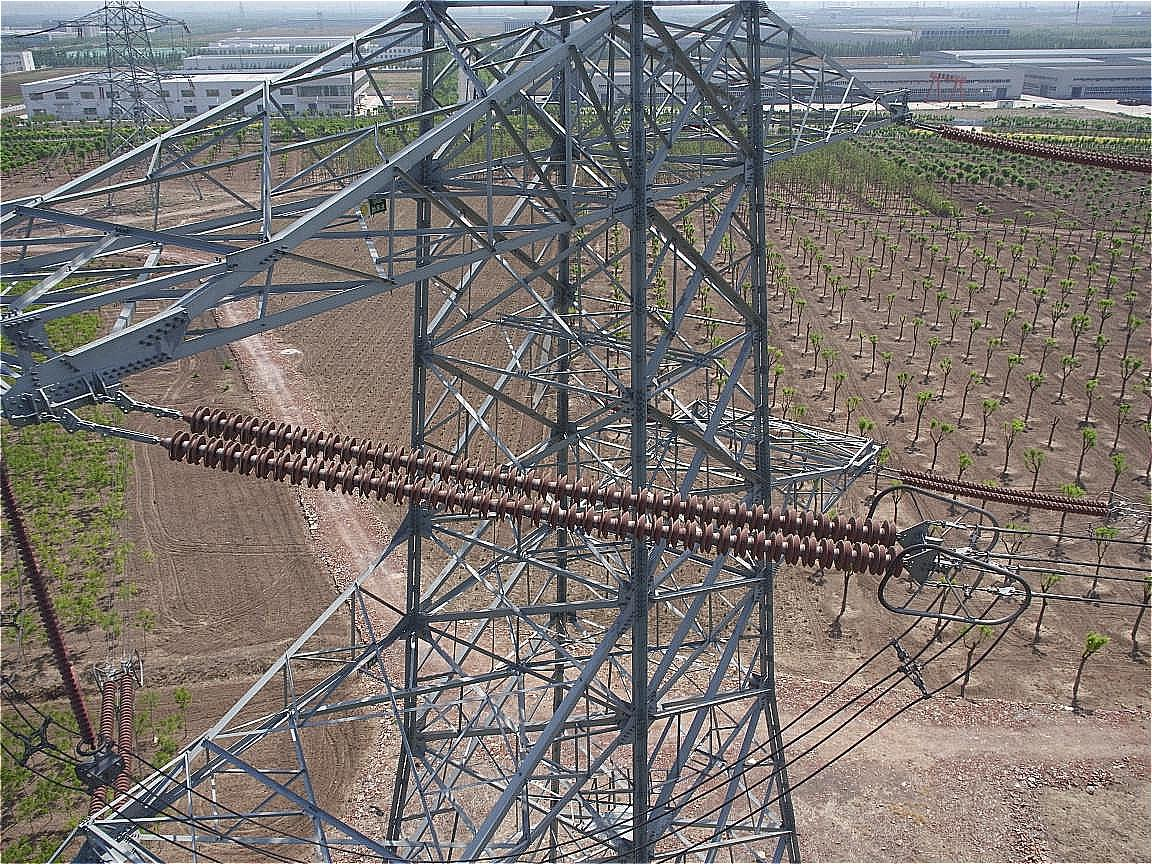insultor1: (890, 436, 1148, 530)
insultor2: (148, 384, 922, 593)
